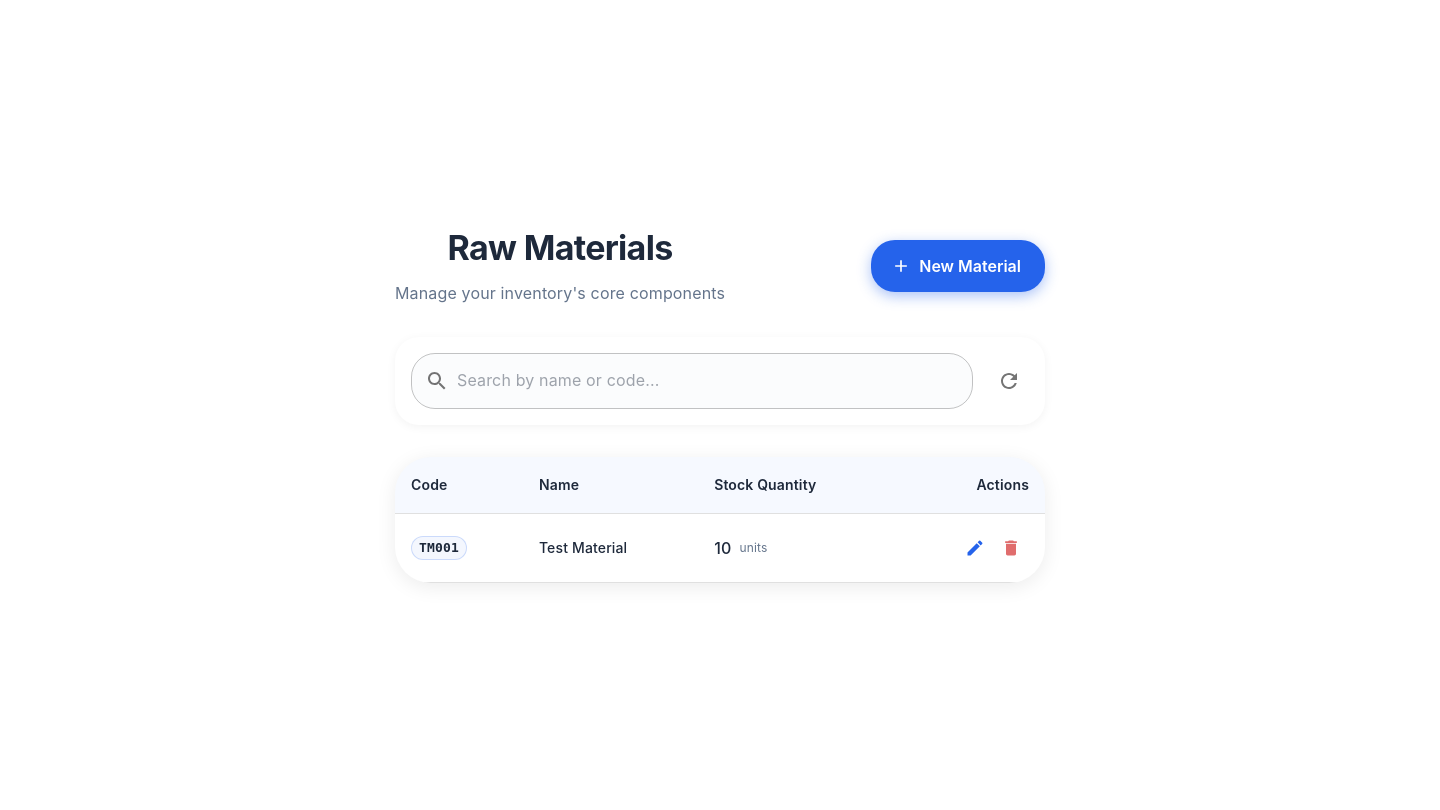
Test: RawMaterialsPage › opens delete confirmation dialog and confirms deletion
Check: the text "Test Material" is shown, box [523,513,698,582]
Click the button with test id "DeleteIcon".
click(1011, 548)  # box [993,530,1029,566]
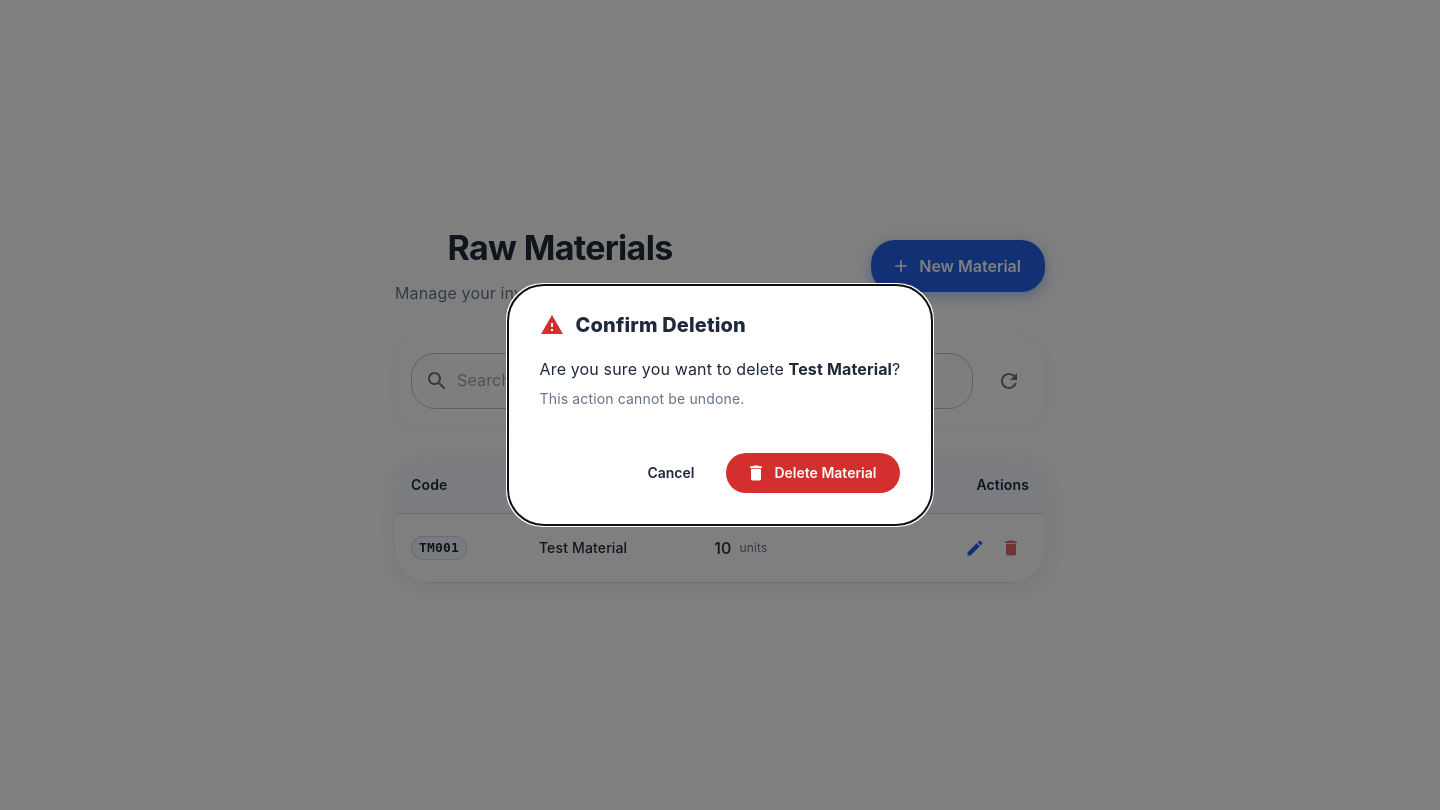
Check: the heading "Confirm Deletion" is shown, box [540,313,746,337]
Check: the text "Test Material" is shown, box [789,359,892,379]
Click the button "Delete Material".
click(814, 473)  # box [726,453,900,493]
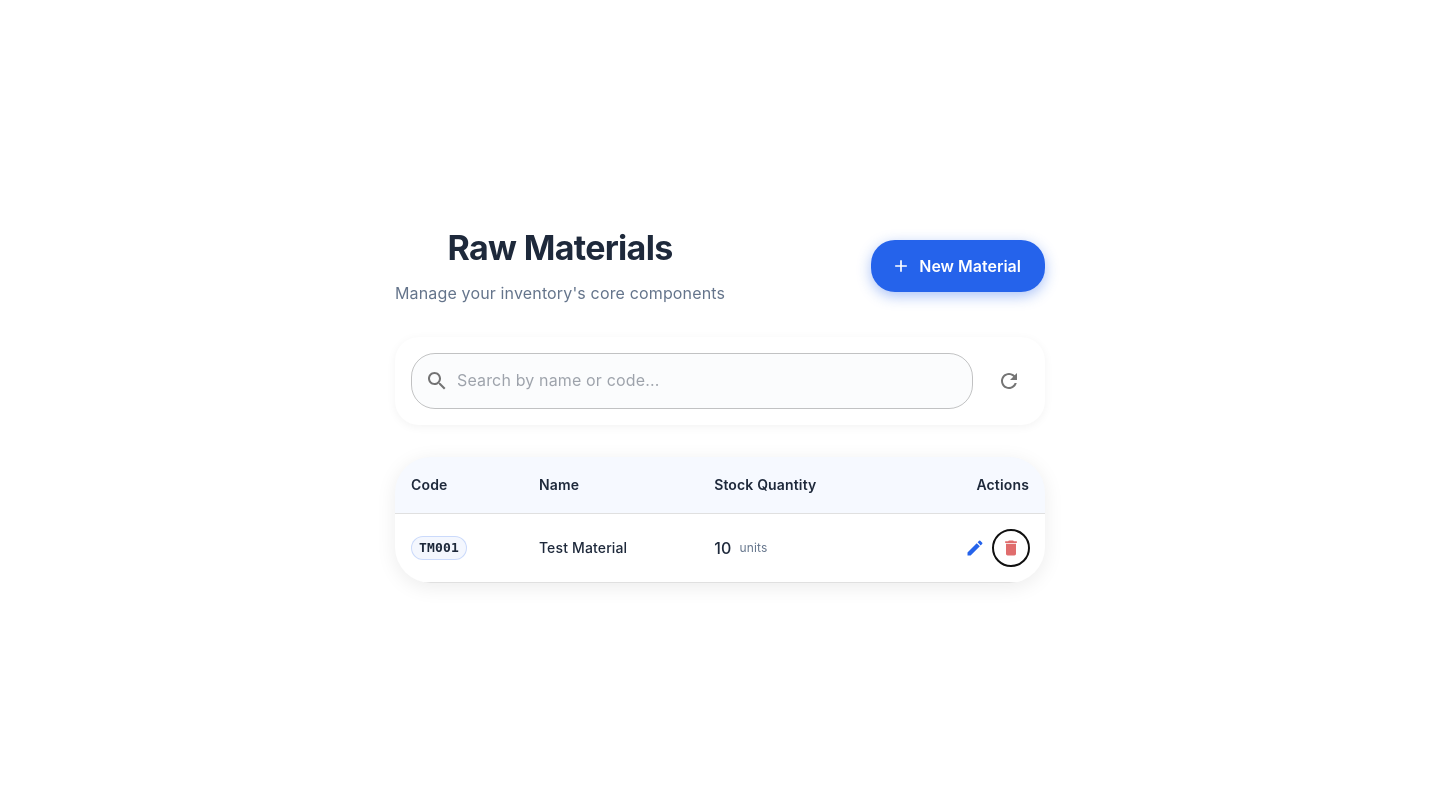
Check: the dialog is gone
